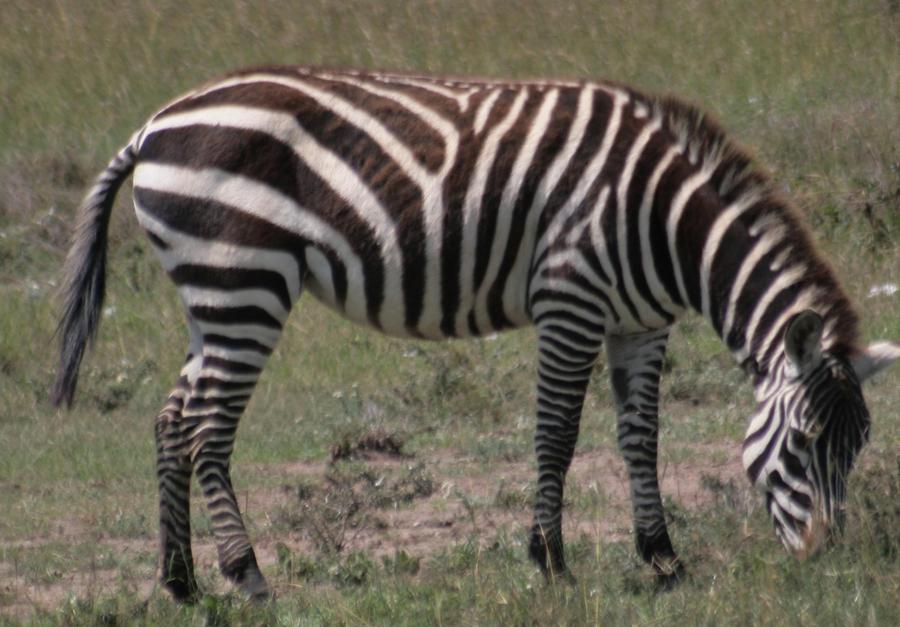zebra_plains: (148, 51, 674, 340)
